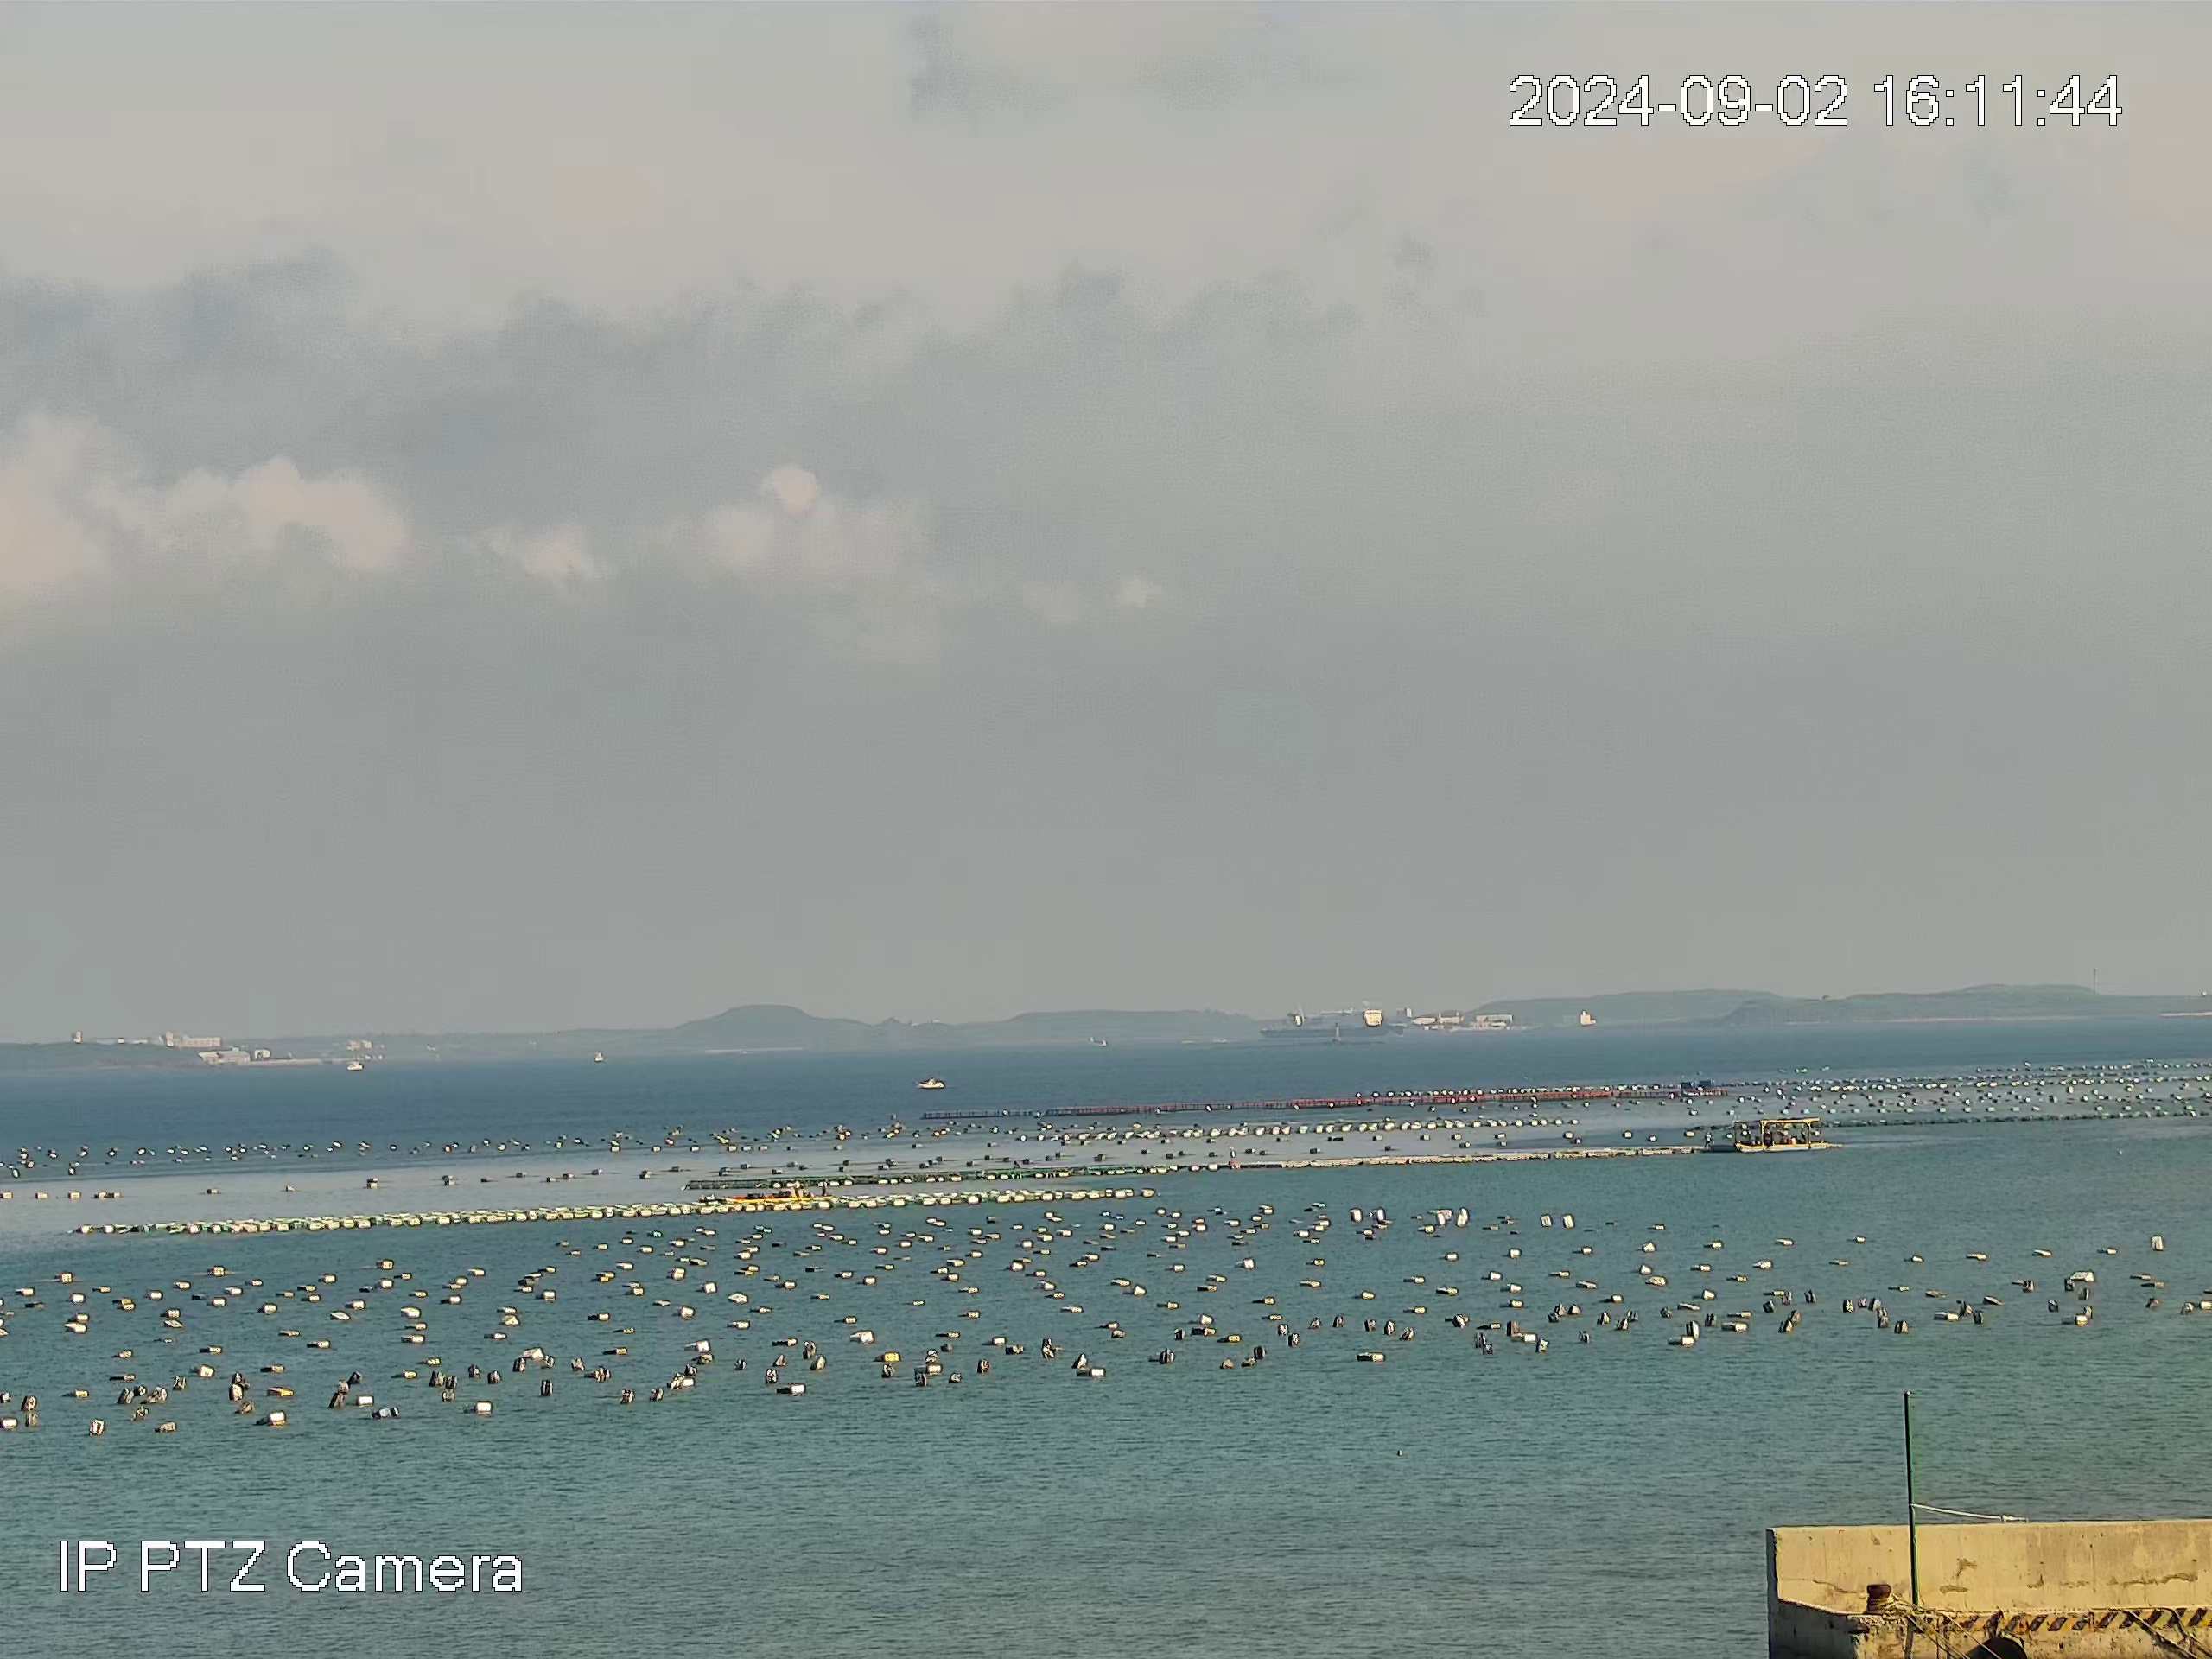boat: (1258, 1007, 1407, 1037), (1733, 1117, 1829, 1154), (723, 1180, 834, 1204), (916, 1077, 946, 1089)
